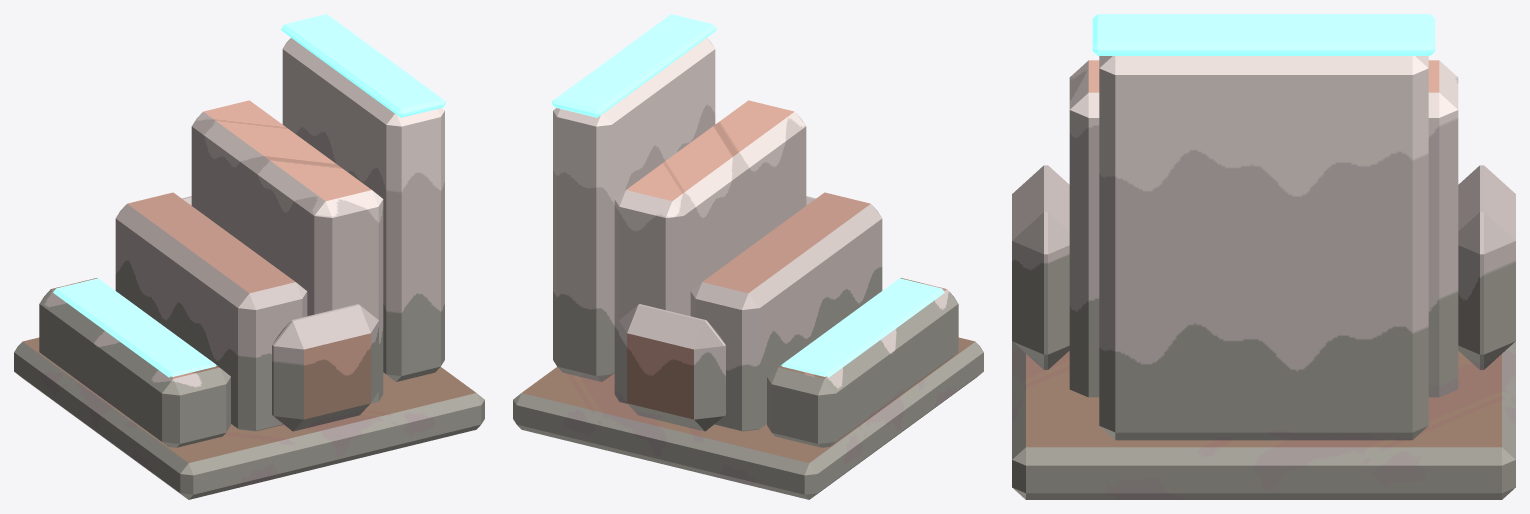
File: R4X_ModuleAmplifier_LOD1.glb
The picture shows the model from 3 angles, left to right: view 1: azimuth 30°, elevation 25°; view 2: azimuth 150°, elevation 25°; view 3: azimuth 270°, elevation 25°; orthographic projection. The views are drawn at different scales.
Visible parts, largest first — view 1: R4X_ModuleAmplifier_LOD1; view 2: R4X_ModuleAmplifier_LOD1; view 3: R4X_ModuleAmplifier_LOD1.
Part boxes in pixels (left/top/right/bottom): R4X_ModuleAmplifier_LOD1: left=14, top=14, right=484, bottom=499; R4X_ModuleAmplifier_LOD1: left=513, top=14, right=983, bottom=499; R4X_ModuleAmplifier_LOD1: left=1012, top=14, right=1515, bottom=499.
Size of the model in its own units: 0.52 by 0.5131 by 0.52.
Materials: 3 (2 with a texture image).
